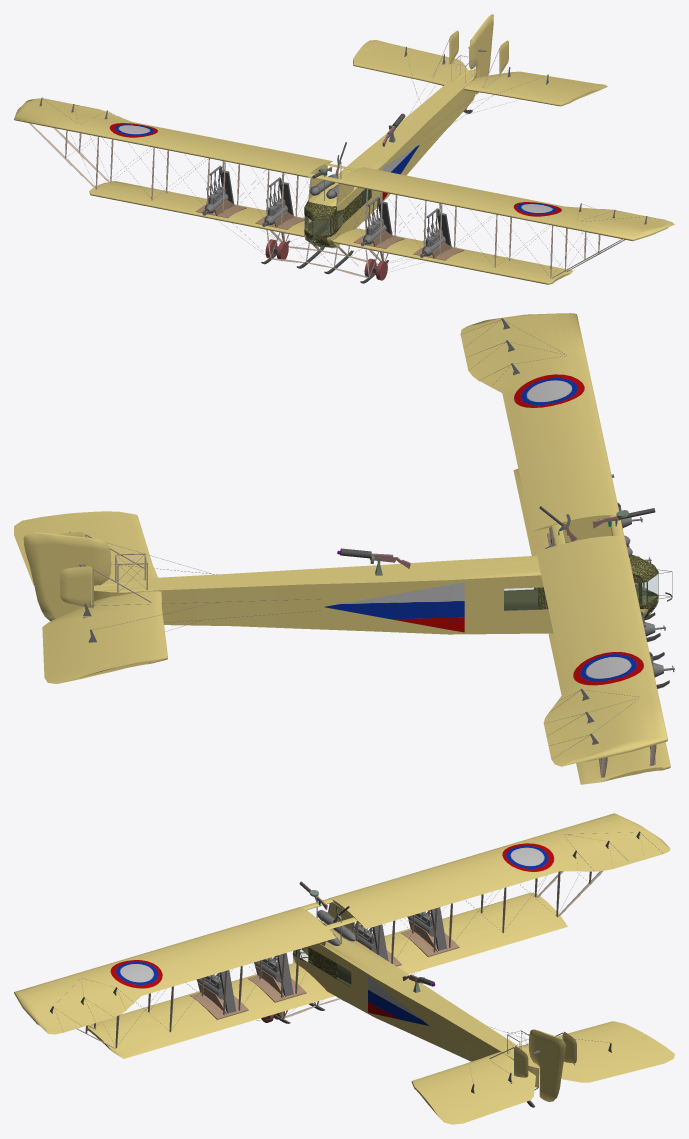
The model's file is airplane_c6c08606.glb.
The picture shows the model from 3 angles, top to bottom: view 1: azimuth 30°, elevation 25°; view 2: azimuth 150°, elevation 25°; view 3: azimuth 270°, elevation 25°; orthographic projection. The views are drawn at different scales.
Visible parts, largest first — view 1: PROFIL_VERCH02-FACES, PROFIL_VERCH01-FACES, FUZEL-FACES, PROFIL_NIG_02-FACES, PROFIL_NIG_04-FACES, PROFIL_NIG_03-FACES, PROFIL_NIG_05-FACES, FUZEL01-FACES, Box02-FACES, PROFIL_FLAG02-FACES, PROFIL_FLAG01-FACES, PROFIL_NIG_FLAG04-FACES (+2 smaller); view 2: FUZEL-FACES, PROFIL_VERCH01-FACES, PROFIL_VERCH02-FACES, PROFIL_NIG_02-FACES, PROFIL_NIG_04-FACES, Box02-FACES, FUZEL_FLAG-FACES, PROFIL_NIG_05-FACES, FUZEL01-FACES, PROFIL_FLAG02-FACES, PROFIL_FLAG01-FACES, Box03-FACES (+3 smaller); view 3: PROFIL_VERCH02-FACES, PROFIL_VERCH01-FACES, FUZEL-FACES, PROFIL_NIG_03-FACES, PROFIL_NIG_04-FACES, PROFIL_NIG_05-FACES, PROFIL_NIG_02-FACES, Box02-FACES, PROFIL_NIG_FLAG03-FACES, PROFIL_NIG_FLAG04-FACES, PROFIL_FLAG01-FACES, PROFIL_FLAG02-FACES (+5 smaller).
Boxes of the visible parts, <box> form: PROFIL_VERCH02-FACES: <box>338,167,674,241</box>; PROFIL_VERCH01-FACES: <box>14,98,332,177</box>; FUZEL-FACES: <box>304,69,476,248</box>; PROFIL_NIG_02-FACES: <box>353,40,467,85</box>; PROFIL_NIG_04-FACES: <box>464,71,607,106</box>; PROFIL_NIG_03-FACES: <box>333,228,573,284</box>; PROFIL_NIG_05-FACES: <box>89,181,311,236</box>; FUZEL01-FACES: <box>304,189,371,247</box>; Box02-FACES: <box>469,14,493,94</box>; PROFIL_FLAG02-FACES: <box>513,202,561,216</box>; PROFIL_FLAG01-FACES: <box>109,123,157,137</box>; PROFIL_NIG_FLAG04-FACES: <box>133,189,181,202</box>; FUZEL-FACES: <box>94,555,658,634</box>; PROFIL_VERCH01-FACES: <box>536,536,667,766</box>; PROFIL_VERCH02-FACES: <box>460,313,618,531</box>; PROFIL_NIG_02-FACES: <box>42,591,167,683</box>; PROFIL_NIG_04-FACES: <box>14,511,157,587</box>; Box02-FACES: <box>23,532,111,621</box>; FUZEL_FLAG-FACES: <box>325,582,464,632</box>; PROFIL_NIG_05-FACES: <box>548,633,670,784</box>; FUZEL01-FACES: <box>504,555,658,618</box>; PROFIL_FLAG02-FACES: <box>513,374,584,407</box>; PROFIL_FLAG01-FACES: <box>573,652,643,685</box>; Box03-FACES: <box>60,566,92,607</box>; PROFIL_VERCH02-FACES: <box>14,907,336,1034</box>; PROFIL_VERCH01-FACES: <box>329,813,670,928</box>; FUZEL-FACES: <box>293,922,538,1087</box>; PROFIL_NIG_03-FACES: <box>87,963,334,1058</box>; PROFIL_NIG_04-FACES: <box>411,1052,535,1124</box>; PROFIL_NIG_05-FACES: <box>384,892,567,974</box>; PROFIL_NIG_02-FACES: <box>519,1021,674,1082</box>; Box02-FACES: <box>529,1029,565,1101</box>; PROFIL_NIG_FLAG03-FACES: <box>132,1009,183,1039</box>; PROFIL_NIG_FLAG04-FACES: <box>471,908,522,938</box>; PROFIL_FLAG01-FACES: <box>502,843,554,871</box>; PROFIL_FLAG02-FACES: <box>110,960,162,988</box>.
Size of the model in its own units: 26.36 by 5.3 by 27.13.
Materials: 17 (3 with a texture image).
